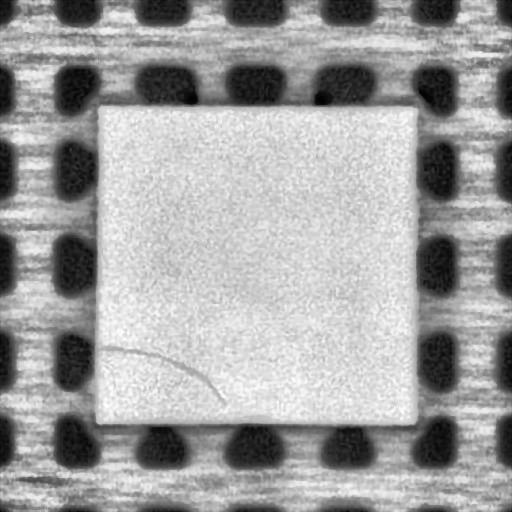DIE_CRACK: (100, 343, 226, 404)
